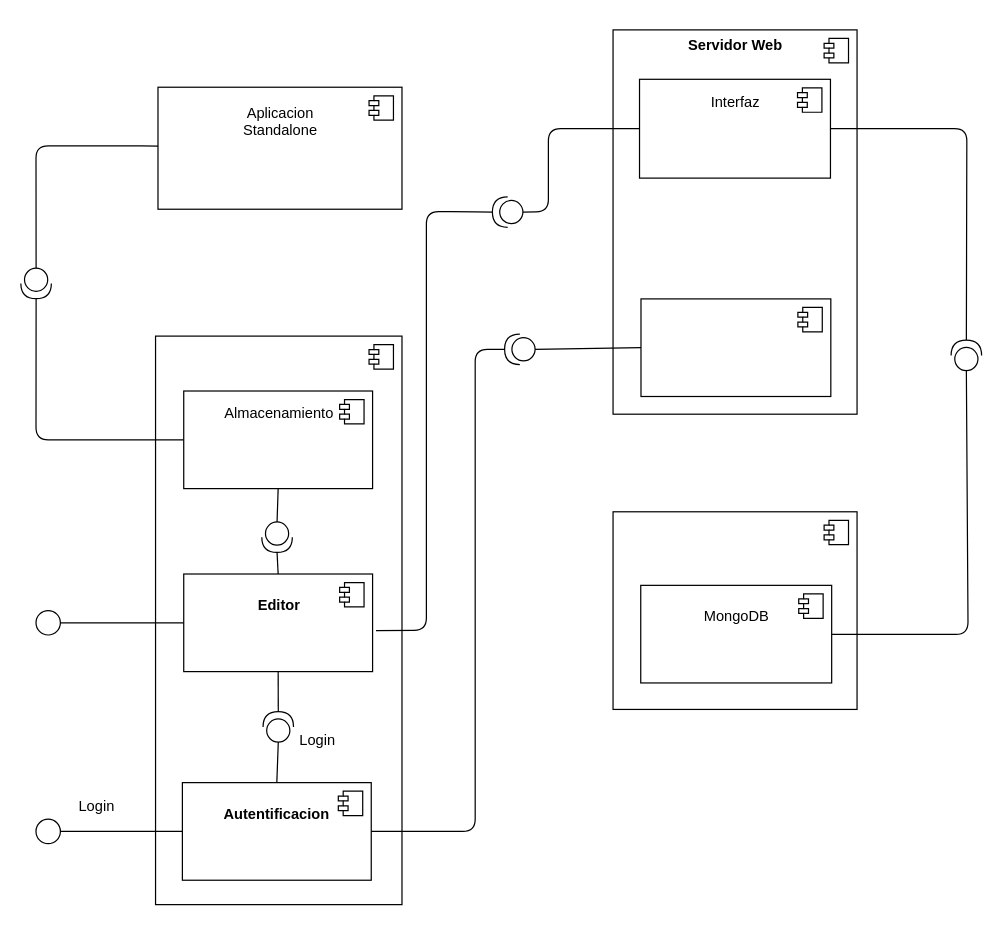
Some shapes in this 1004 by 926 pixel diagram are drawn without their labels. Each missing label, with the box of its shape:
Credenciales: (640, 298, 831, 396)
Database: (612, 511, 857, 709)
Workspace: (154, 335, 402, 905)
